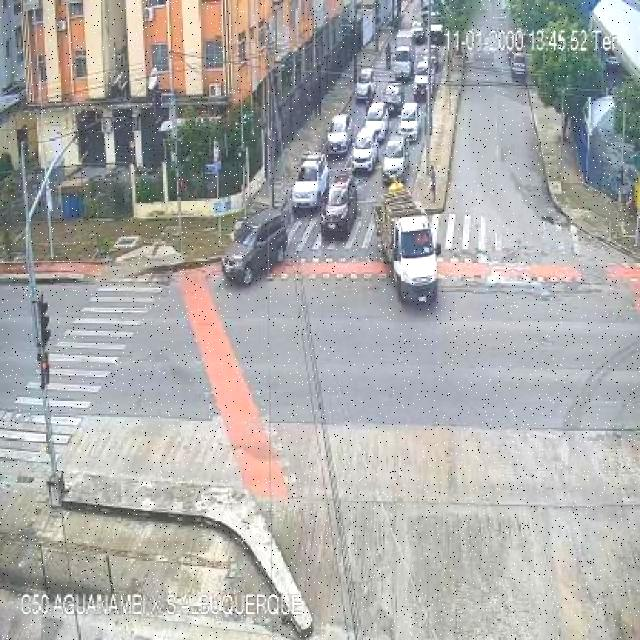Car: (222, 209, 290, 289), (386, 213, 441, 305), (320, 173, 360, 236), (291, 154, 331, 212), (354, 120, 386, 160), (381, 139, 407, 181), (326, 114, 353, 154), (364, 100, 392, 132), (390, 47, 414, 81), (399, 103, 420, 140), (415, 49, 440, 78), (355, 68, 376, 102), (383, 83, 404, 111), (510, 50, 527, 82), (412, 74, 430, 102), (395, 29, 414, 54), (428, 23, 444, 44), (410, 22, 425, 44)
